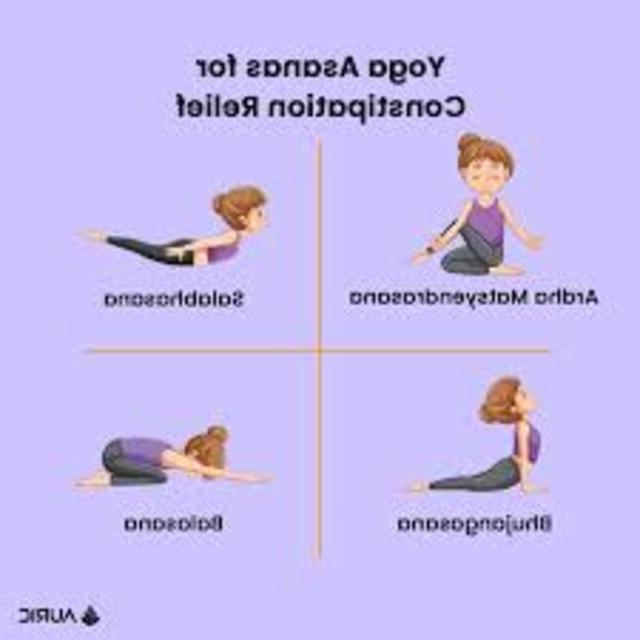Locust_Pose: (83, 182, 272, 268)
